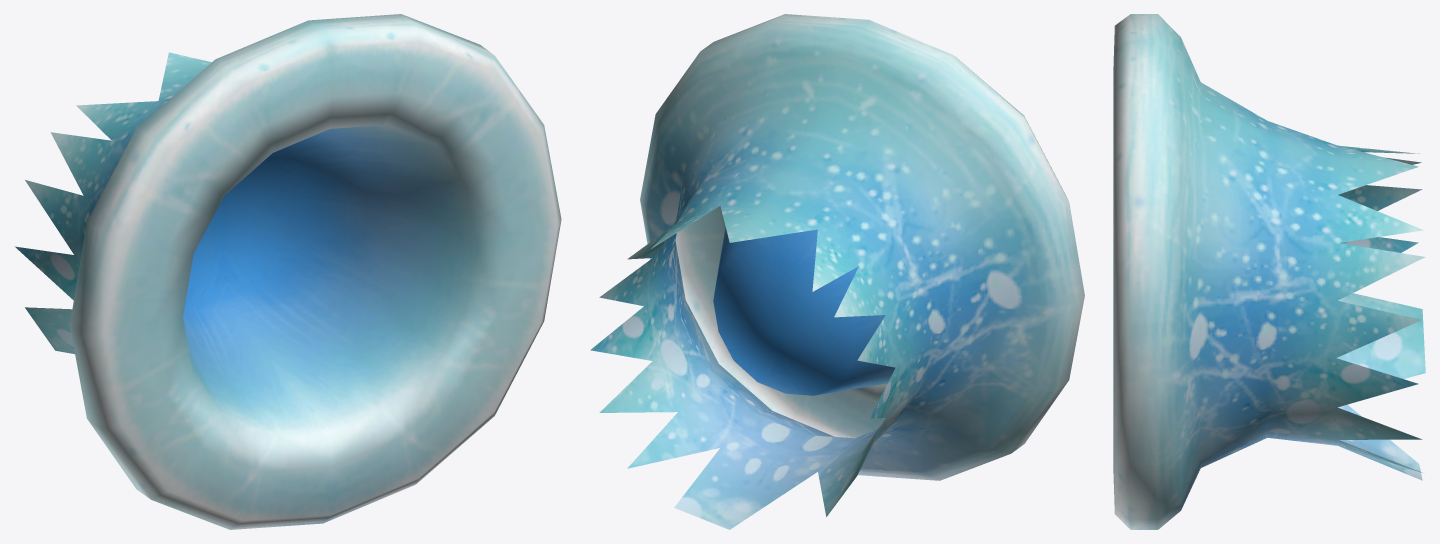
Rendered from icepea_boca.obj.
3 views of the same model, side by side, from view 1: azimuth 30°, elevation 25°; view 2: azimuth 150°, elevation 25°; view 3: azimuth 270°, elevation 25° (orthographic). The views are drawn at different scales.
Visible parts, largest first — view 1: icepea_boca; view 2: icepea_boca; view 3: icepea_boca.
Part boxes in pixels (x1,y1,x2,y2): icepea_boca: (15,14,561,529); icepea_boca: (590,14,1084,529); icepea_boca: (1113,14,1425,529).
Size of the model in its own units: 0.3896 by 0.3843 by 0.236.
